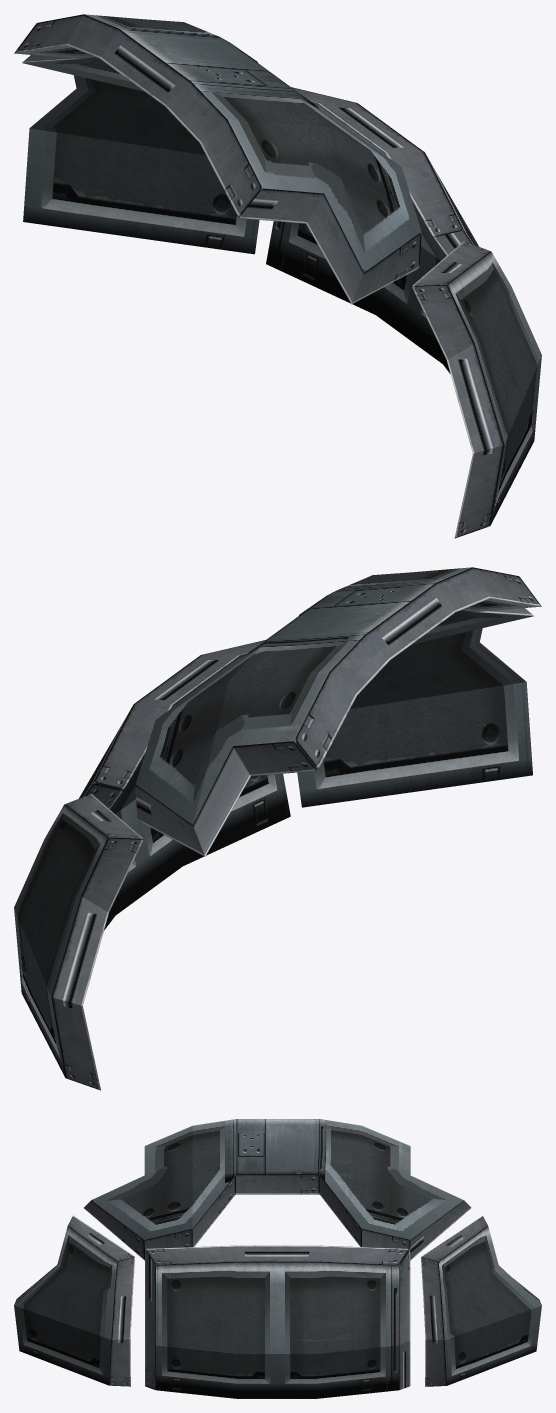
File: medium_unit_hardened.obj
3 views of the same model, one above another, from view 1: azimuth 30°, elevation 25°; view 2: azimuth 150°, elevation 25°; view 3: azimuth 270°, elevation 25° (orthographic). The views are drawn at different scales.
Parts seen in each view (by area): view 1: polySurface1; view 2: polySurface1; view 3: polySurface1.
Part boxes in pixels (box(x1,y1,x2,y2)): polySurface1: box(14, 14, 541, 538); polySurface1: box(14, 567, 541, 1090); polySurface1: box(14, 1119, 541, 1398).
Bounding box in the file's own units: 10.45 × 10.67 × 25.12.
Materials: 1 (1 with a texture image).
